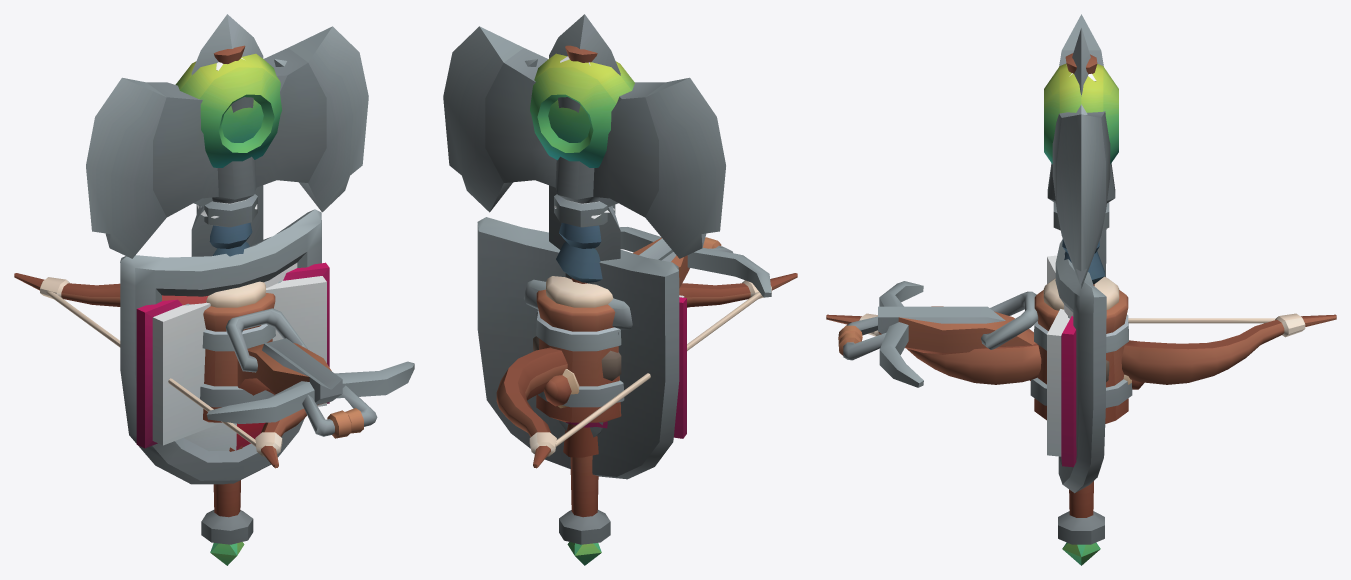
File: props.glb
3 views of the same model, side by side, from view 1: azimuth 30°, elevation 25°; view 2: azimuth 150°, elevation 25°; view 3: azimuth 270°, elevation 25° (orthographic). The views are drawn at different scales.
Parts seen in each view (by area): view 1: axe_2handed, shield_badge_color, spellbook_open, staff, crossbow_1handed, mug_full, bow_withString, sword_1handed; view 2: axe_2handed, shield_badge_color, staff, mug_full, bow_withString, crossbow_1handed, sword_1handed, spellbook_open; view 3: bow_withString, crossbow_1handed, axe_2handed, shield_badge_color, staff, mug_full, spellbook_open, sword_1handed.
Boxes of the visible parts, x1,y1,x2,y2 form: axe_2handed: (86,26,368,451); shield_badge_color: (120,209,321,484); spellbook_open: (136,262,329,448); staff: (175,53,286,565); crossbow_1handed: (206,308,414,438); mug_full: (200,281,275,422); bow_withString: (14,273,306,468); sword_1handed: (184,14,281,305); axe_2handed: (443,26,725,457); shield_badge_color: (477,217,679,479); staff: (525,53,634,565); mug_full: (536,276,624,422); bow_withString: (496,273,797,468); crossbow_1handed: (544,227,771,408); sword_1handed: (524,14,632,437); spellbook_open: (536,295,686,438); bow_withString: (826,313,1336,384); crossbow_1handed: (838,281,1144,389); axe_2handed: (1047,14,1115,288); shield_badge_color: (1055,229,1109,493); staff: (1044,63,1118,565); mug_full: (1030,276,1132,423); spellbook_open: (1047,255,1076,467); sword_1handed: (1068,27,1090,318).
Bounding box in the file's own units: 1.24 × 2.31 × 1.98.
Materials: 5 (5 with a texture image).
